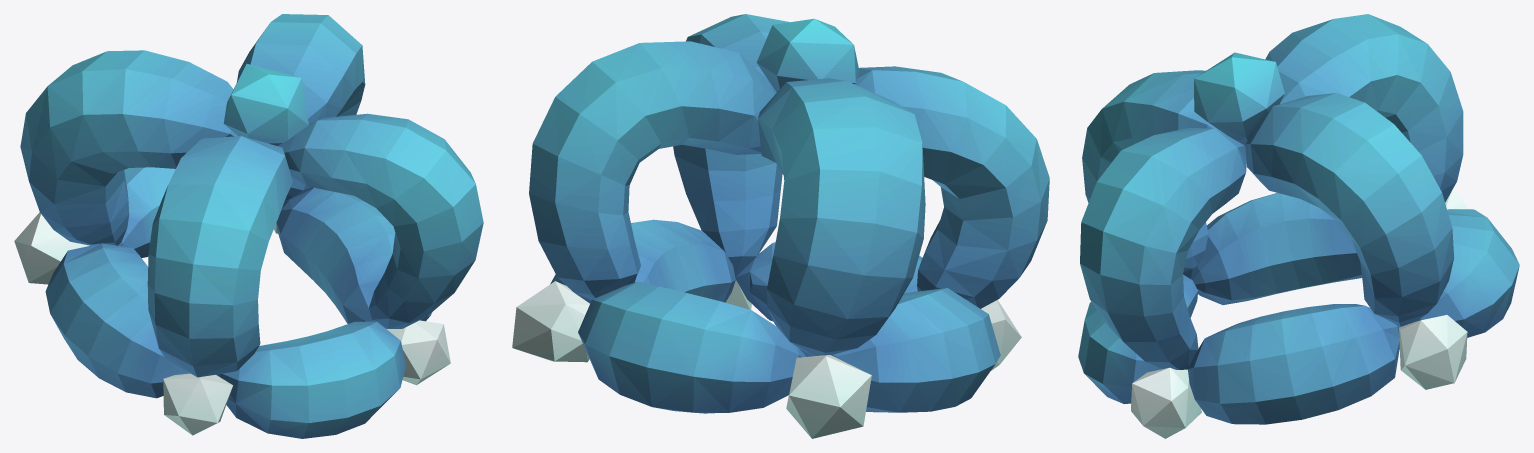
Rendered from CharSkyKid_Horn_BalloonCrown.glb.
3 renders of one model, left to right at view 1: azimuth 30°, elevation 25°; view 2: azimuth 150°, elevation 25°; view 3: azimuth 270°, elevation 25°, orthographic. The views are drawn at different scales.
Parts seen in each view (by area): view 1: CharSkyKid_Horn_BalloonCrown; view 2: CharSkyKid_Horn_BalloonCrown; view 3: CharSkyKid_Horn_BalloonCrown.
Part boxes in pixels (bbox=[...]): CharSkyKid_Horn_BalloonCrown: bbox=[14, 14, 483, 438]; CharSkyKid_Horn_BalloonCrown: bbox=[512, 14, 1049, 438]; CharSkyKid_Horn_BalloonCrown: bbox=[1078, 14, 1519, 438].
Bounding box in the file's own units: 3.7 × 3.16 × 3.87.
1 material, 1 textured.
